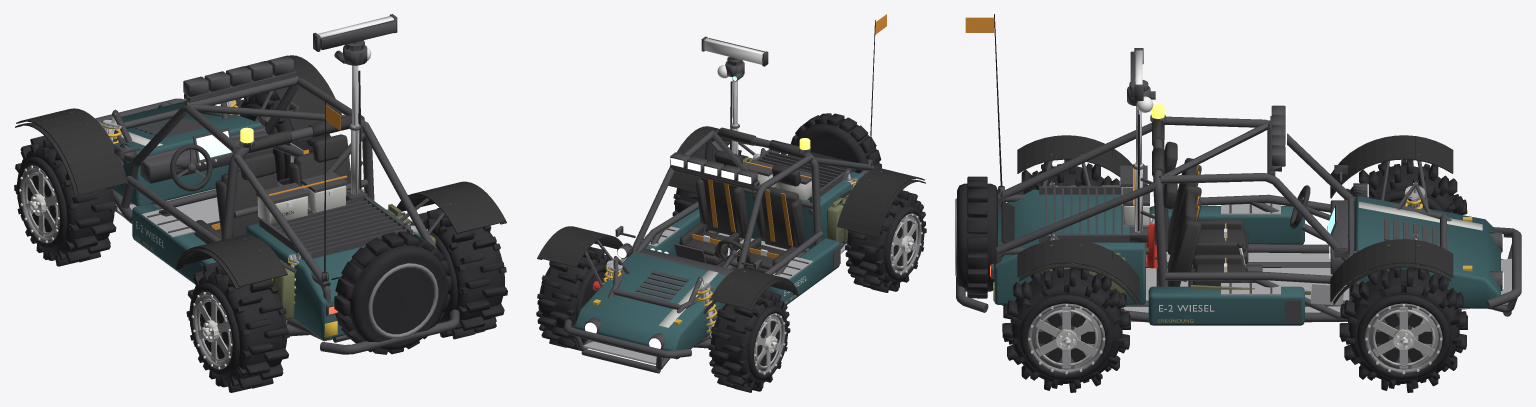
Rendered from Wiesel.1caa4f6839.glb.
The picture shows the model from 3 angles, left to right: view 1: azimuth 30°, elevation 25°; view 2: azimuth 150°, elevation 25°; view 3: azimuth 270°, elevation 25°; orthographic projection. The views are drawn at different scales.
Parts seen in each view (by area): view 1: Aufbau__lack, Aufbau__matt, Rad_HL__matt, Rad_VL__matt, Rad_HR__matt, Aufbau__metall, Rad_VL__metall, Rad_HL__metall, Rad_VR__matt, Sensor__lack, Aufbau__glow_Bordschirm, Sensor__matt; view 2: Aufbau__lack, Aufbau__matt, Rad_VL__matt, Rad_VR__matt, Rad_HL__matt, Aufbau__metall, Rad_VL__metall, Rad_HL__metall, Aufbau__glow_Werftlampe, Sensor__matt, Rad_HR__matt, Sensor__lack; view 3: Aufbau__lack, Aufbau__matt, Rad_HR__matt, Rad_VR__matt, Aufbau__metall, Rad_VL__matt, Rad_HR__metall, Rad_VR__metall, Rad_HL__matt, Sensor__lack.
Part boxes in pixels (x1,y1,x2,y2): Aufbau__lack: [70, 45, 459, 354]; Aufbau__matt: [15, 46, 506, 376]; Rad_HL__matt: [186, 262, 289, 392]; Rad_VL__matt: [14, 136, 117, 266]; Rad_HR__matt: [418, 208, 507, 339]; Aufbau__metall: [20, 65, 438, 369]; Rad_VL__metall: [19, 165, 59, 243]; Rad_HL__metall: [191, 292, 232, 369]; Rad_VR__matt: [236, 91, 330, 180]; Sensor__lack: [313, 14, 397, 51]; Aufbau__glow_Bordschirm: [196, 131, 231, 159]; Sensor__matt: [318, 16, 393, 49]; Aufbau__lack: [563, 61, 882, 373]; Aufbau__matt: [537, 14, 925, 380]; Rad_VL__matt: [708, 290, 790, 392]; Rad_VR__matt: [536, 247, 611, 350]; Rad_HL__matt: [845, 190, 926, 292]; Aufbau__metall: [583, 80, 921, 374]; Rad_VL__metall: [754, 313, 786, 374]; Rad_HL__metall: [890, 213, 922, 274]; Aufbau__glow_Werftlampe: [585, 158, 751, 348]; Sensor__matt: [704, 38, 764, 64]; Rad_HR__matt: [672, 147, 748, 231]; Sensor__lack: [701, 36, 768, 66]; Aufbau__lack: [956, 86, 1521, 325]; Aufbau__matt: [957, 14, 1453, 380]; Rad_HR__matt: [1002, 263, 1130, 392]; Rad_VR__matt: [1339, 263, 1467, 392]; Aufbau__metall: [955, 106, 1511, 373]; Rad_VL__matt: [1344, 159, 1467, 214]; Rad_HR__metall: [1028, 303, 1105, 374]; Rad_VR__metall: [1365, 303, 1442, 374]; Rad_HL__matt: [1007, 159, 1119, 202]; Sensor__lack: [1129, 48, 1148, 100].
Bounding box in the file's own units: 2.67 × 2.66 × 4.7.
